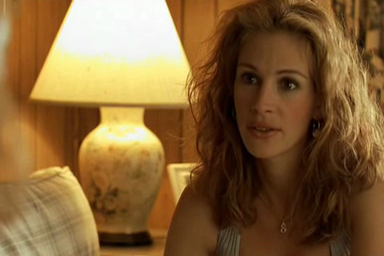cu: (1, 1, 384, 256)
face: (233, 45, 316, 159)
person: (163, 1, 384, 256)
